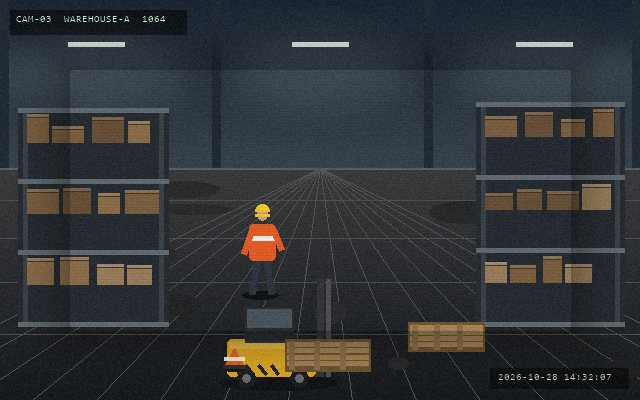cone: (222, 346, 246, 371)
forklift: (223, 276, 361, 390)
pallet: (283, 337, 372, 373), (406, 320, 486, 353)
person: (241, 202, 283, 298)
shelf: (476, 102, 624, 322), (18, 108, 168, 322)
